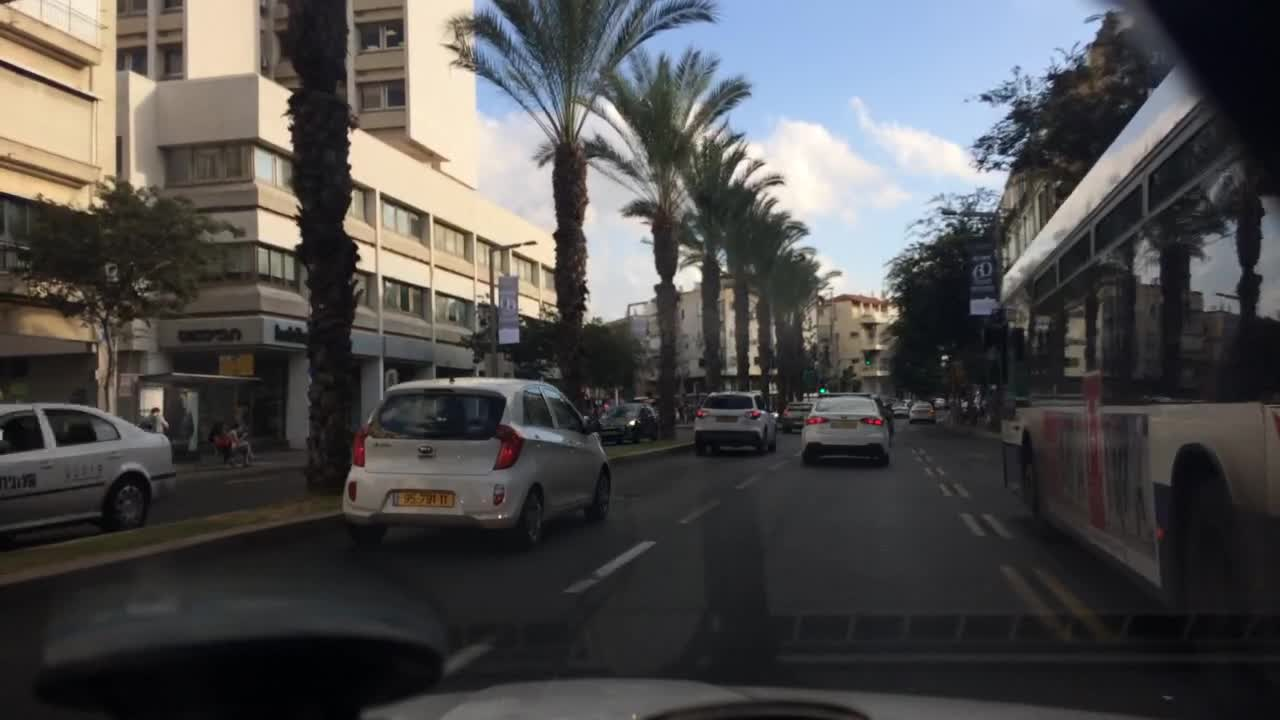bus: (990, 60, 1279, 615)
car: (340, 373, 615, 551), (0, 398, 177, 549), (799, 393, 892, 464), (691, 386, 781, 457), (596, 402, 660, 444), (781, 401, 815, 434), (907, 400, 937, 423), (970, 385, 991, 411), (653, 403, 681, 422), (892, 401, 914, 417), (879, 396, 900, 410), (957, 396, 973, 411), (933, 397, 948, 410), (901, 396, 915, 407)
person: (212, 423, 259, 461), (224, 424, 251, 465), (137, 405, 169, 432)
traffic light: (863, 350, 872, 369), (815, 382, 828, 394)
